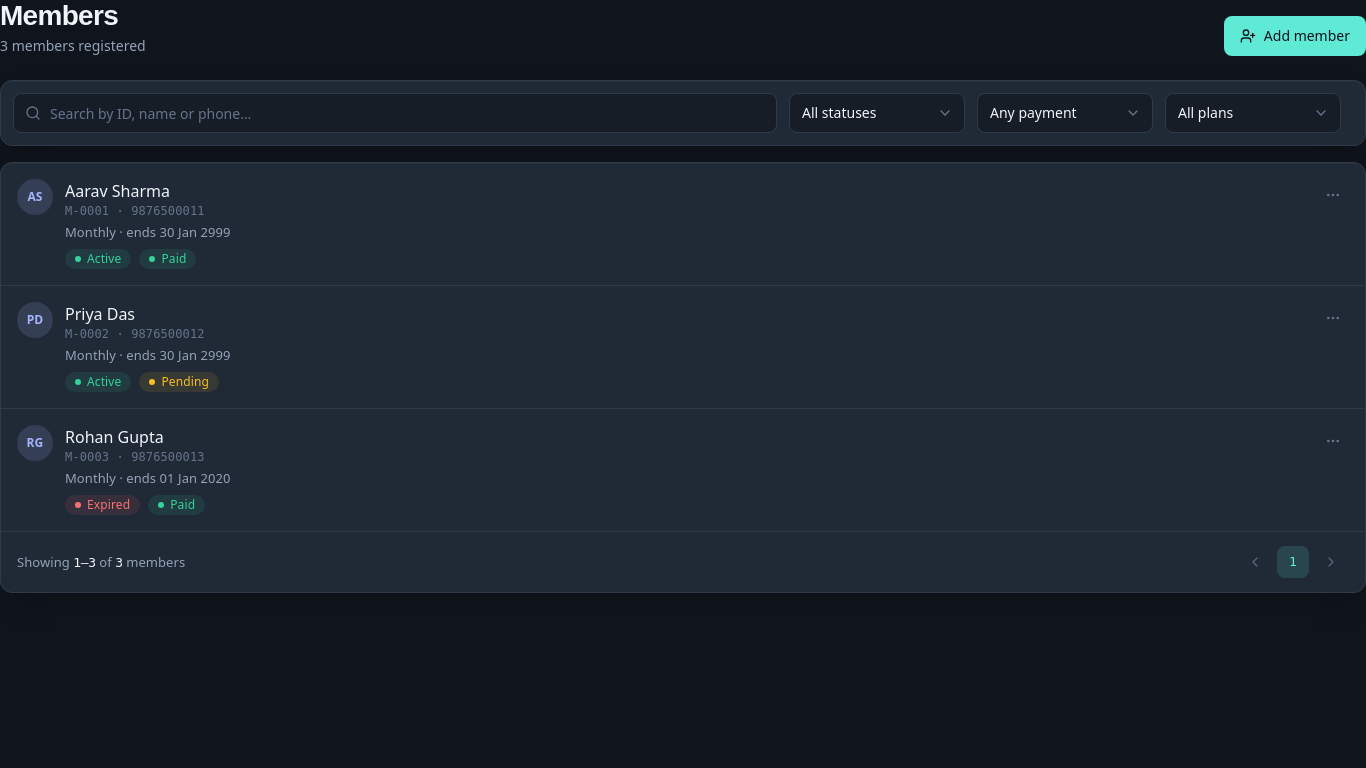
Test: Members page (card layout) › can cancel a delete without removing anything
Expected: the text "Priya Das" is shown, x1=65 y1=303 x2=135 y2=325
Click the button named "Actions for Priya Das". click: click(1333, 318)
box: x1=1317 y1=302 x2=1349 y2=334
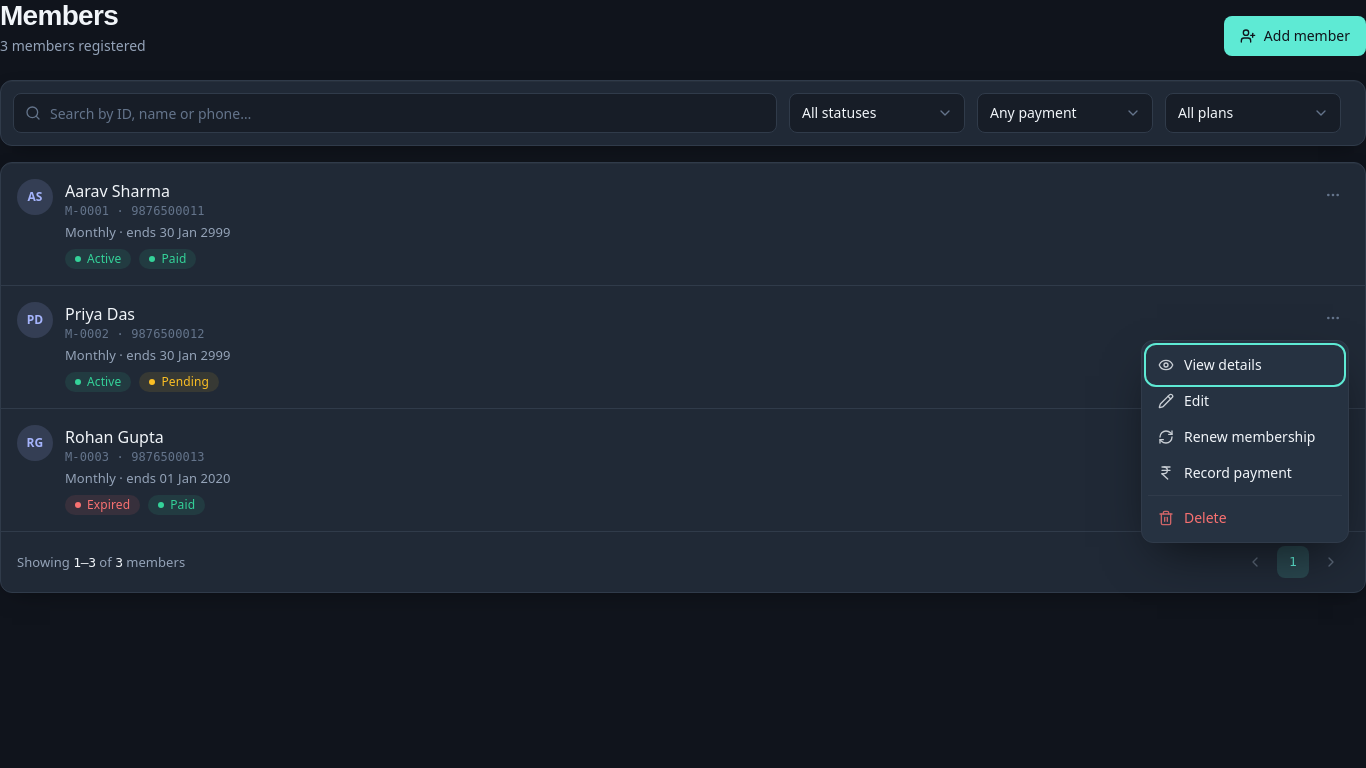
Click the menu item "Delete". click: click(1245, 518)
box: x1=1148 y1=500 x2=1342 y2=536
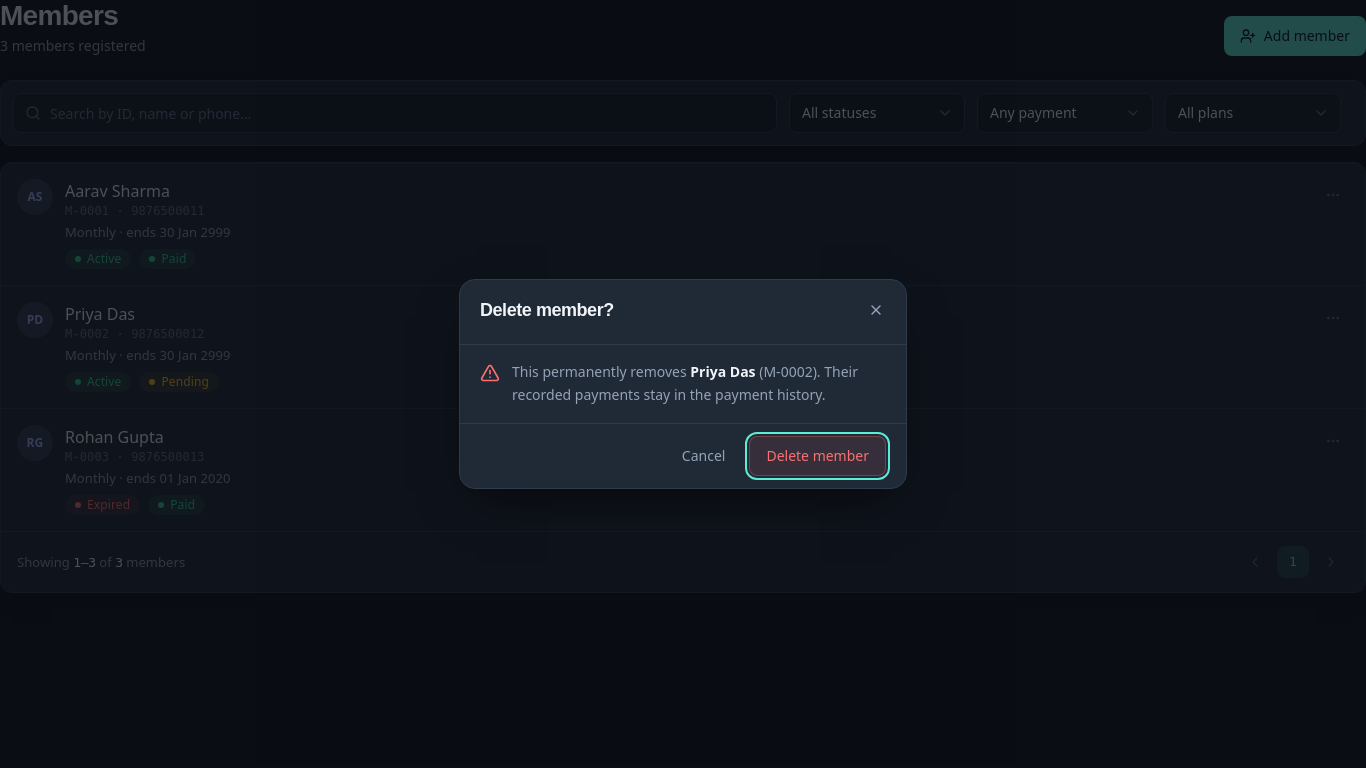
Click the button "Cancel". click: click(704, 456)
box: x1=666 y1=436 x2=741 y2=476
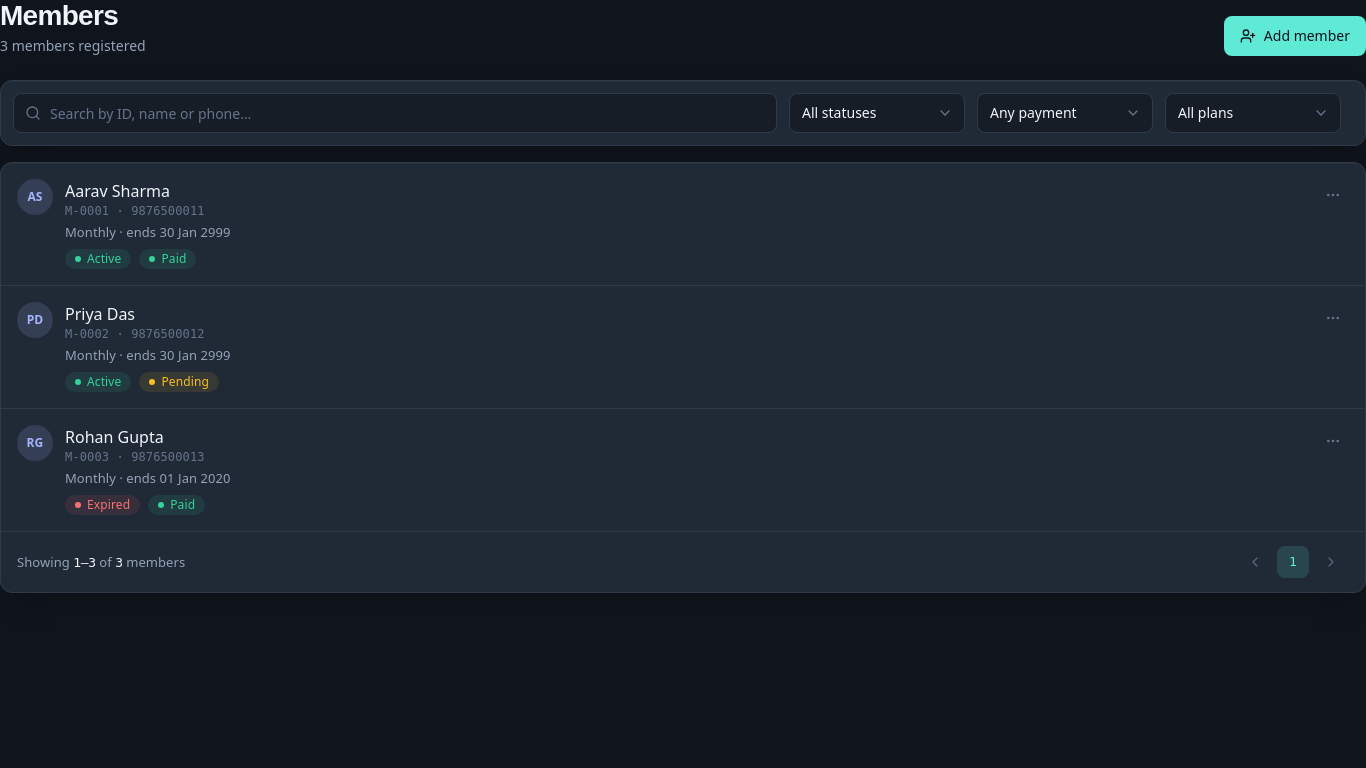
Expected: the dialog is gone
